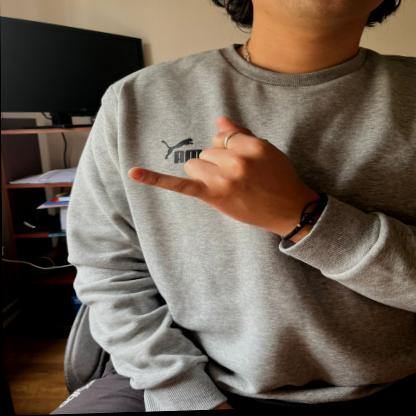J: (125, 107, 312, 231)
